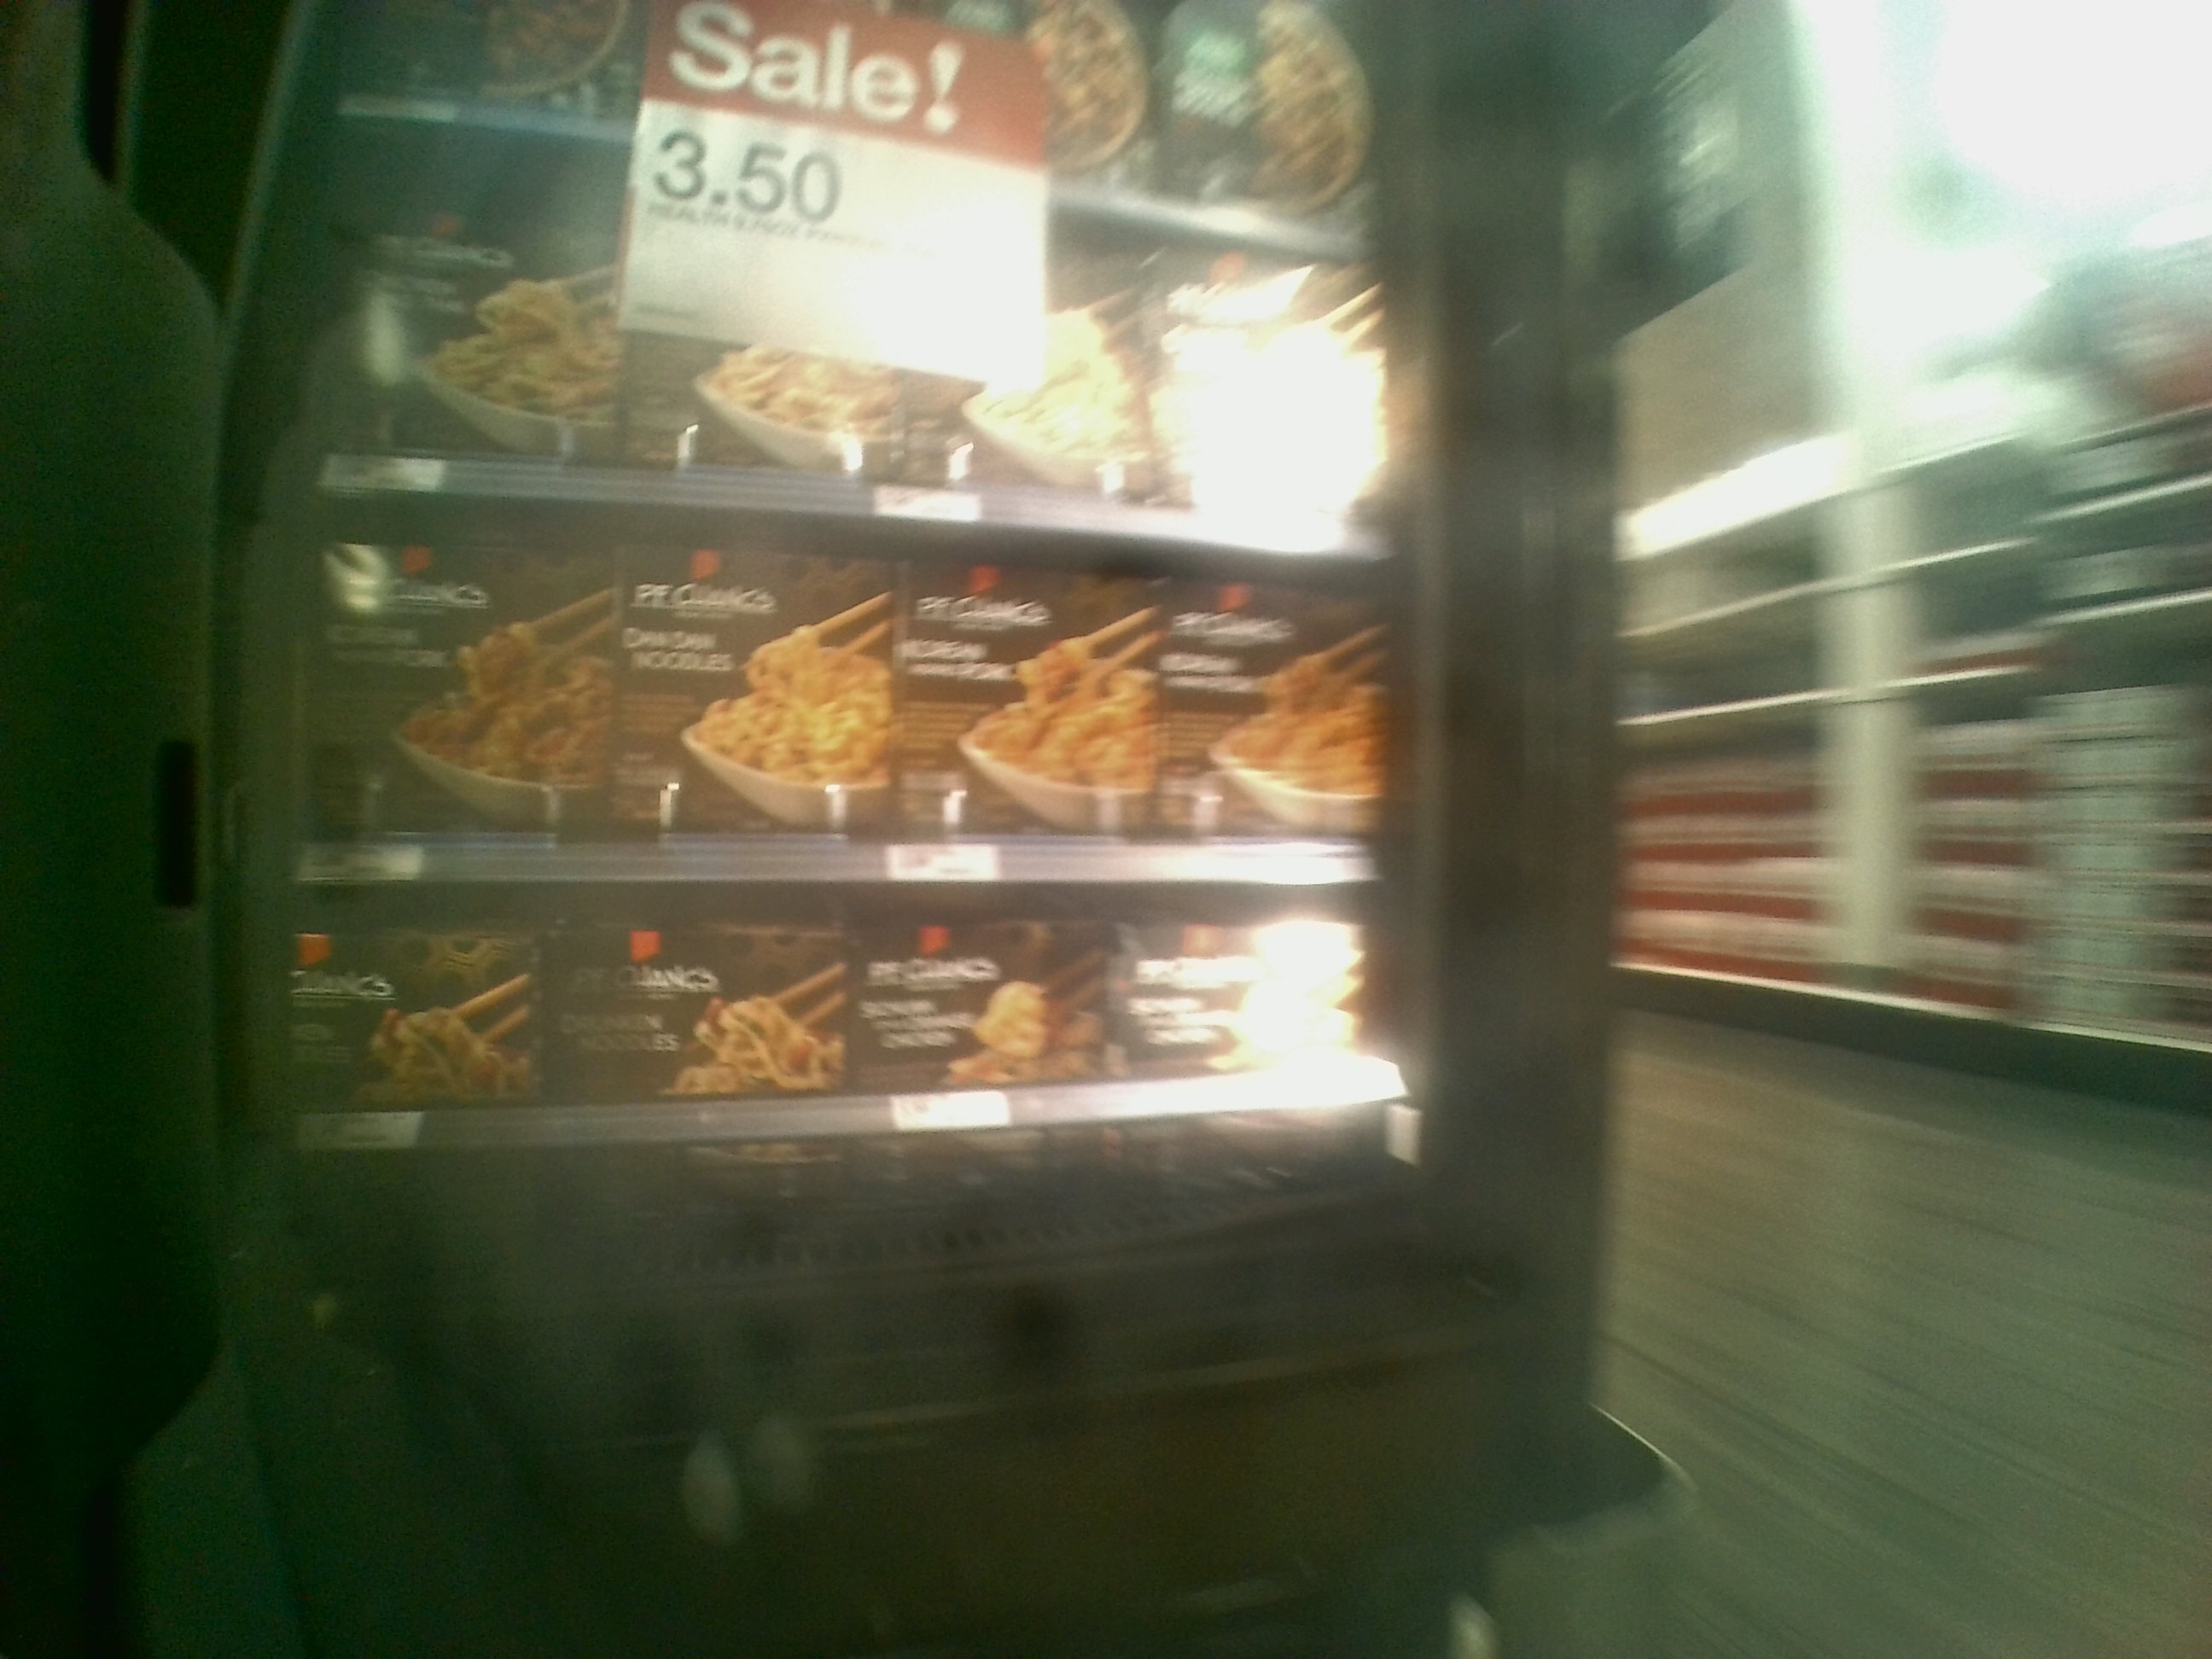shelf: (280, 870, 1406, 1293), (289, 486, 1388, 878)
